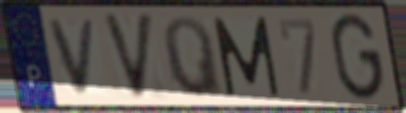7: (275, 15, 320, 99)
G: (328, 11, 387, 104)
M: (209, 14, 283, 99)
Q: (160, 14, 227, 100)
V: (99, 11, 156, 102), (46, 16, 100, 97)
